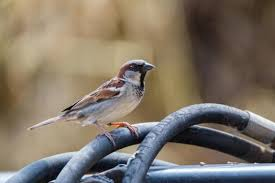hsparrow: (23, 58, 161, 149)
